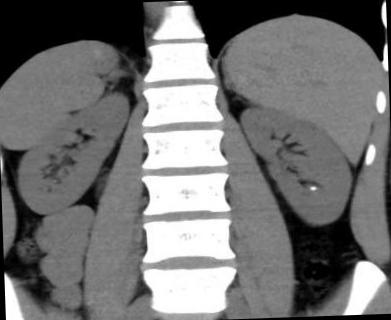Tas_Var: (307, 181, 318, 195)
